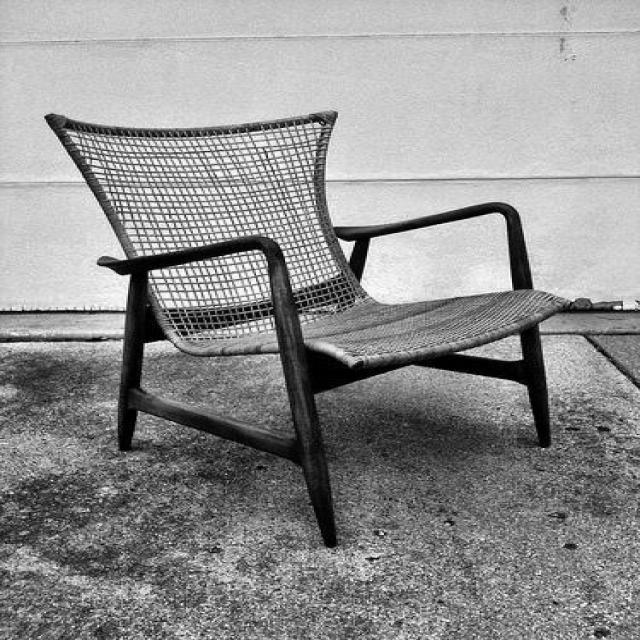chair: (39, 110, 568, 546)
